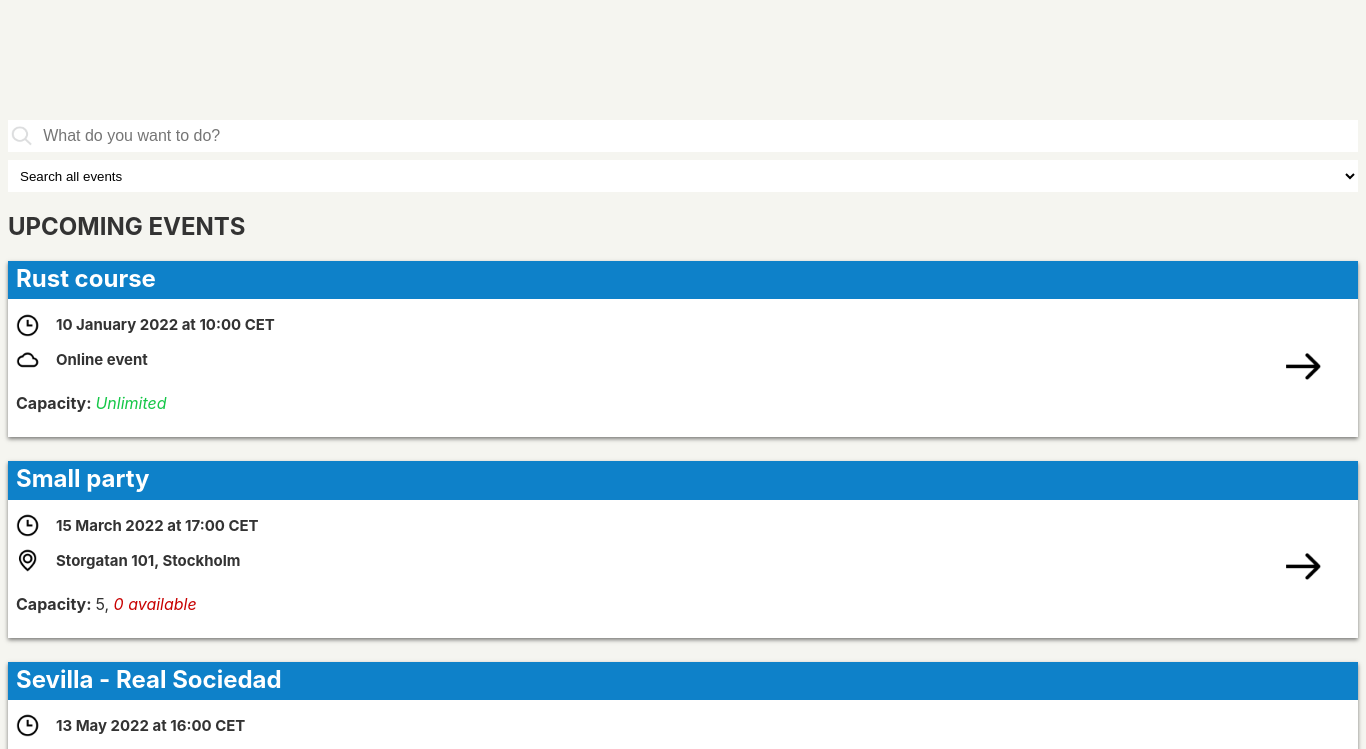
Home › shows filtered events with matching title correctly when typing in search field
Type "pizza" into the search field at (697, 136), box [35,120,1358,152]
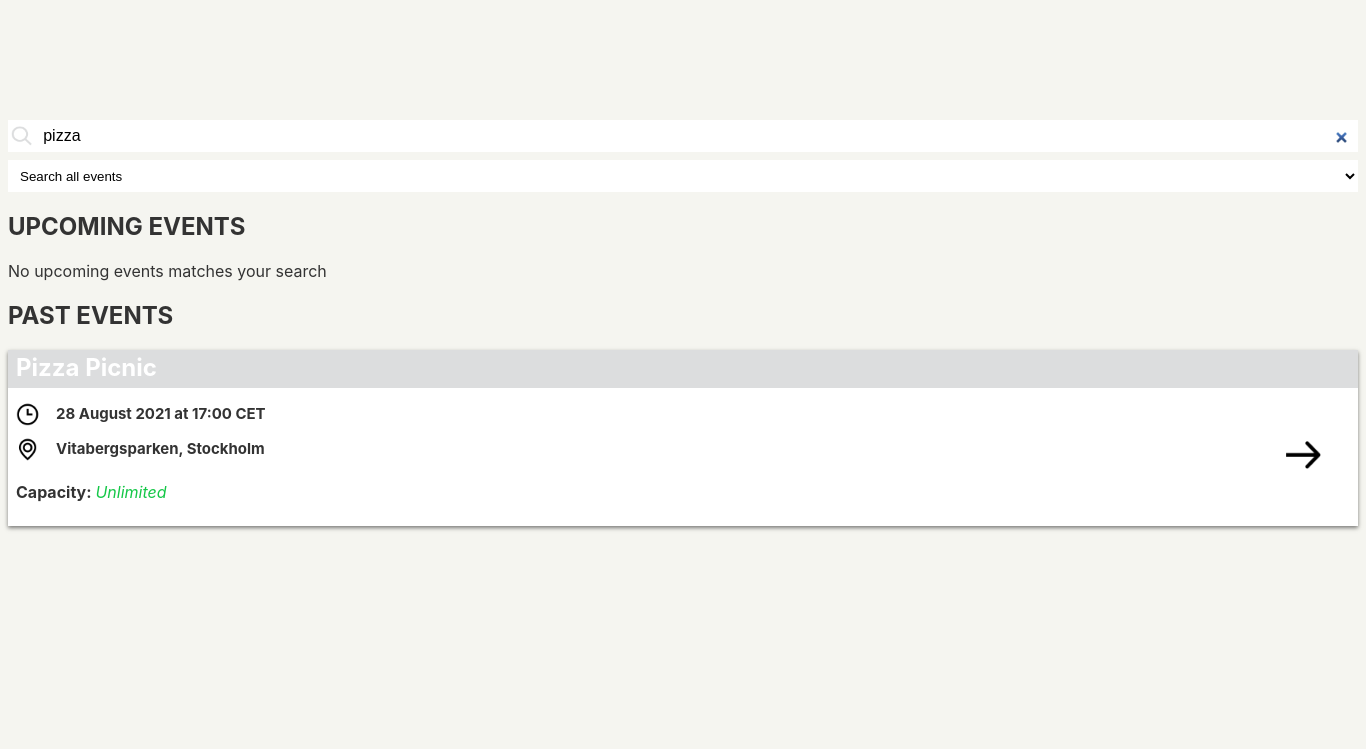
Expected: the list item shows "Pizza", [16,353,157,382]
Expected: the number of list items is 1, [8,350,1358,526]
